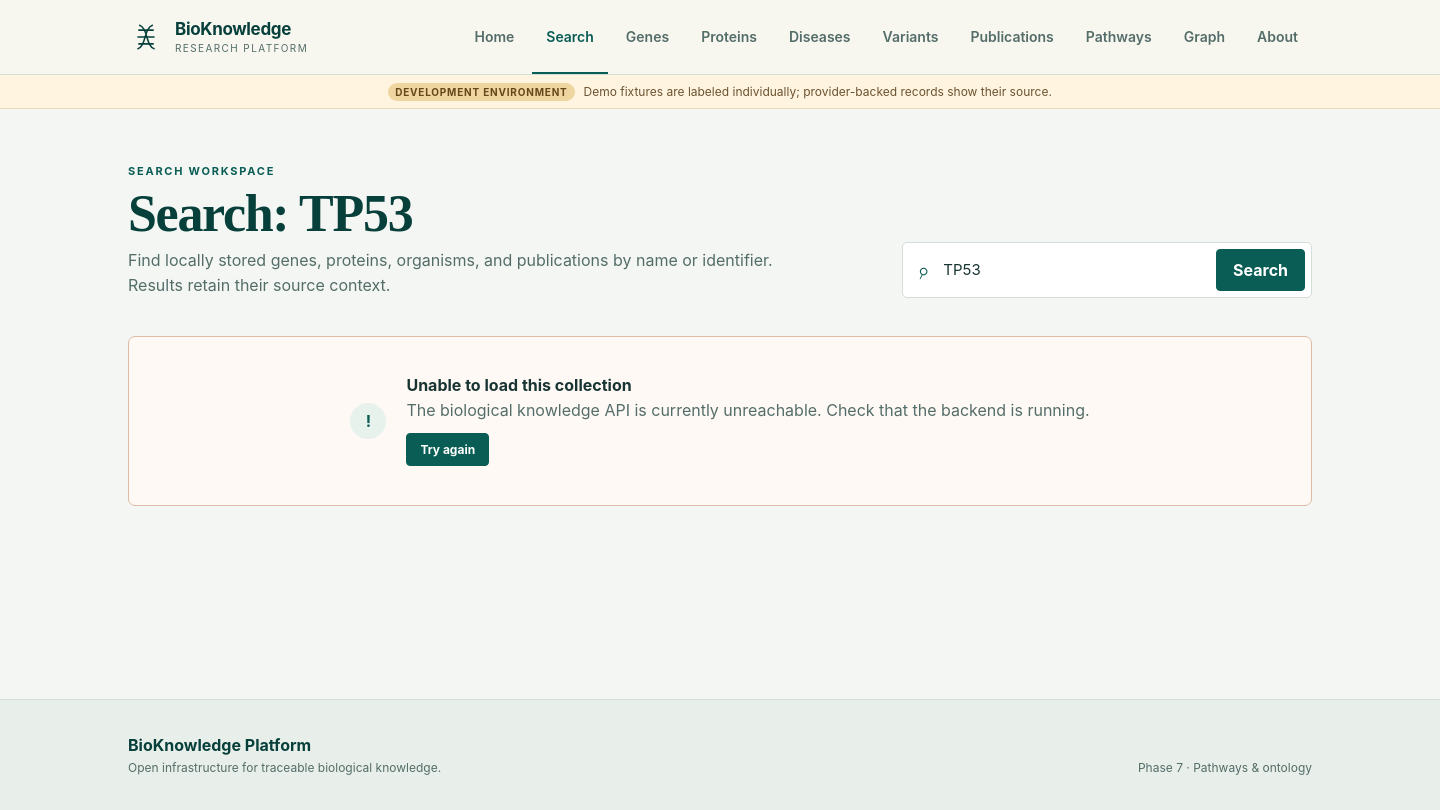
shows empty and retryable search states
The image size is (1440, 810).
Expected: the text "Unable to load this collection" is shown, [406,376,632,396]
Click the button "Try again": (448,450) [406,434,489,466]
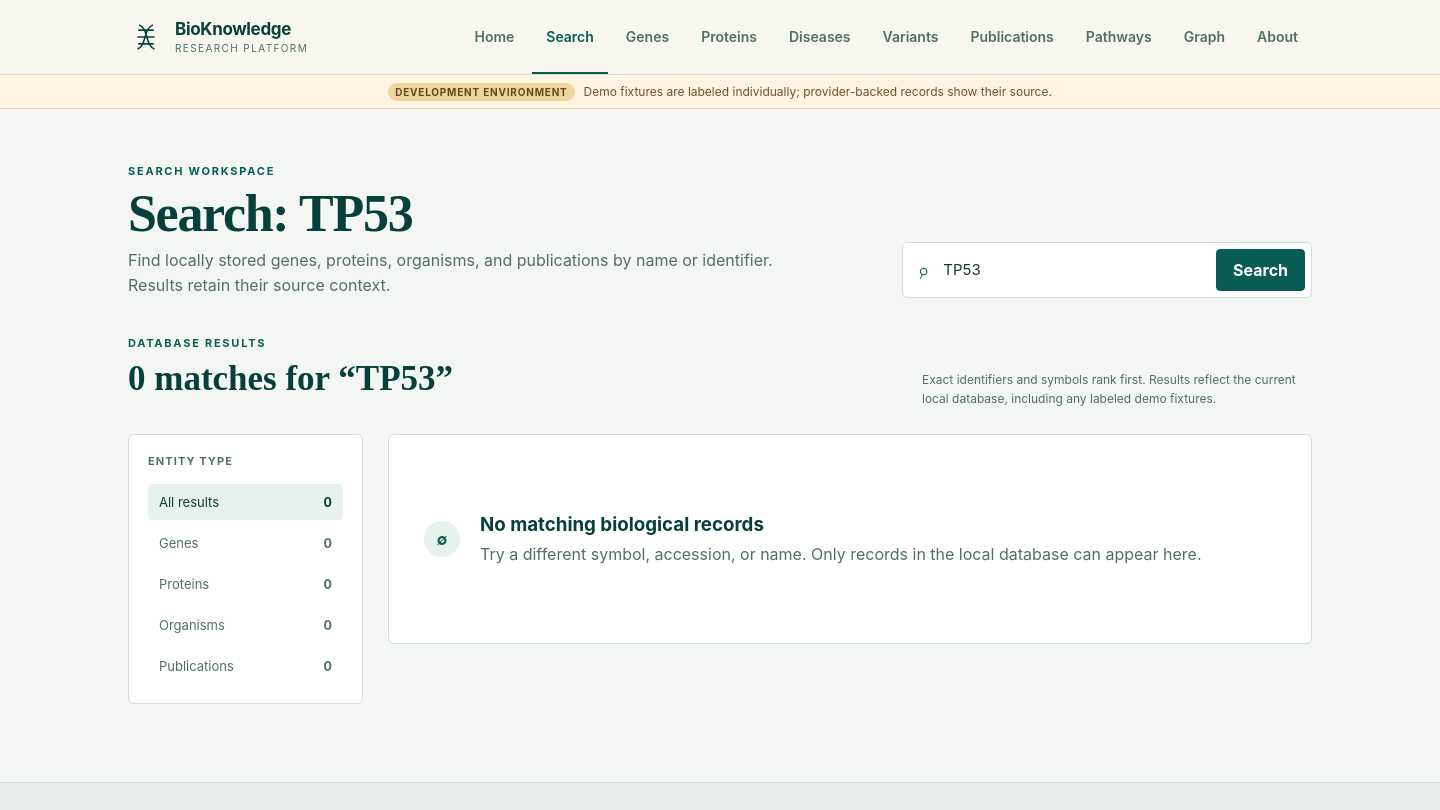
Result: the heading "No matching biological records" is shown at [480,513,764,536]
